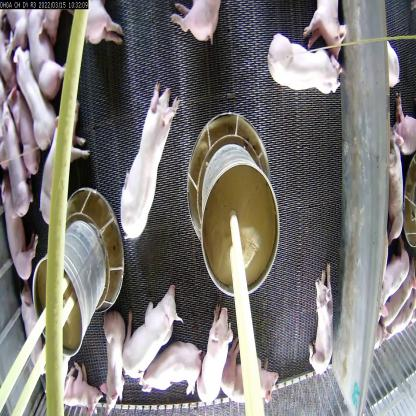Pig: (120, 79, 176, 241), (32, 99, 84, 238), (263, 30, 348, 108), (120, 287, 174, 388), (222, 318, 276, 415), (13, 278, 62, 383), (138, 342, 204, 410), (0, 64, 36, 183), (1, 99, 32, 230), (0, 175, 36, 285), (15, 33, 49, 147), (308, 255, 336, 379), (98, 293, 129, 400), (197, 301, 227, 411), (171, 0, 225, 45), (300, 0, 340, 52), (67, 372, 101, 415)
